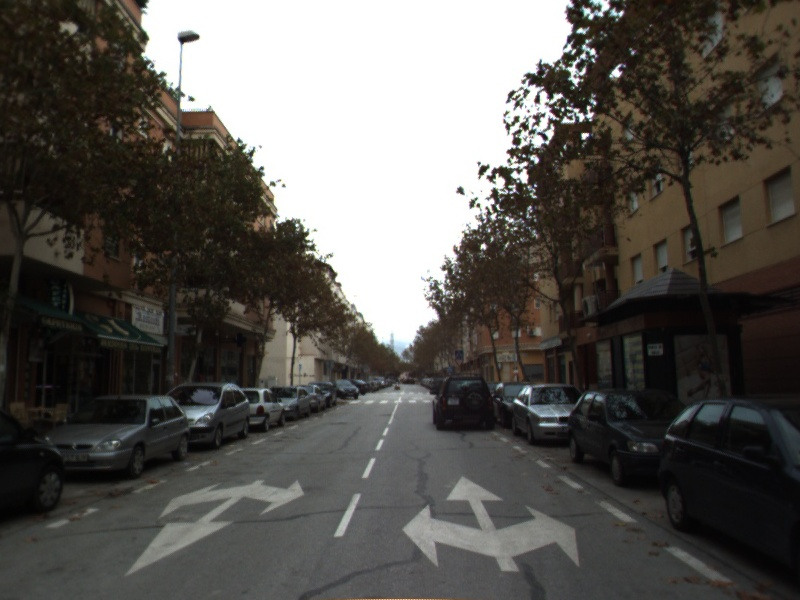STRAIGHT_LEFT_RIGHT: (399, 474, 581, 574)
